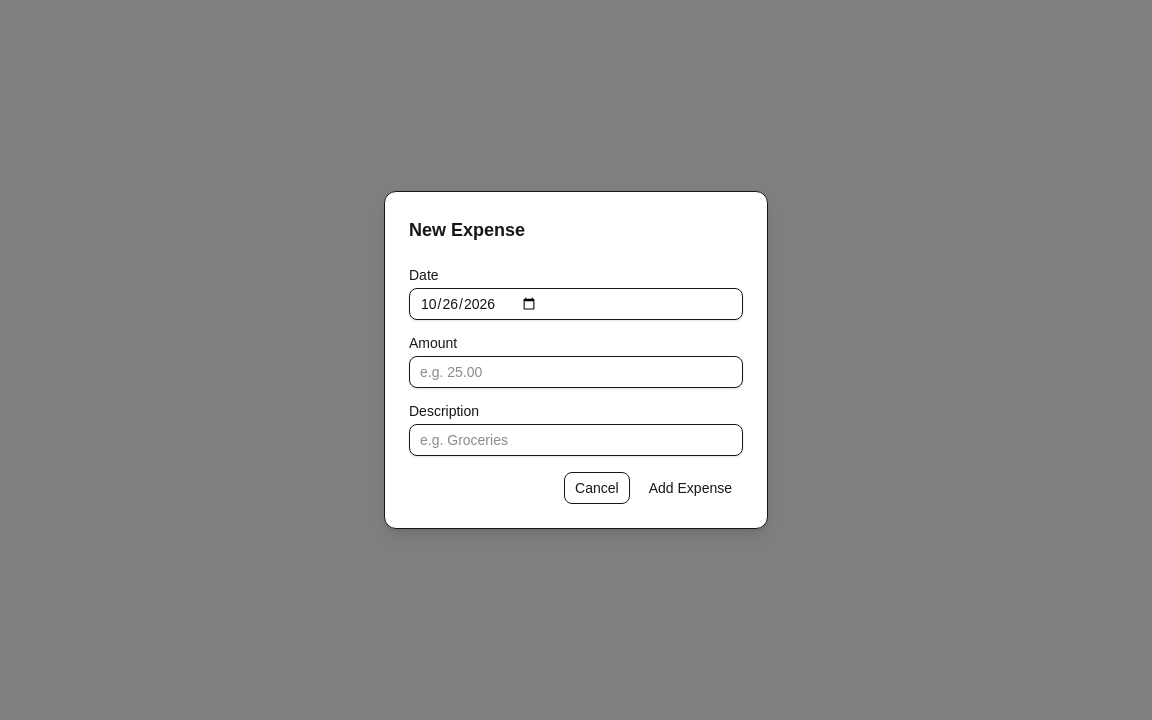
Test: AddExpenseDialog — Validation: amount must be a positive number; description must be non-empty › shows amount invalid error when submitting with zero amount
Type "0" into the number field labelled "Amount".
click(576, 372); type("0")  # box [409,356,743,388]
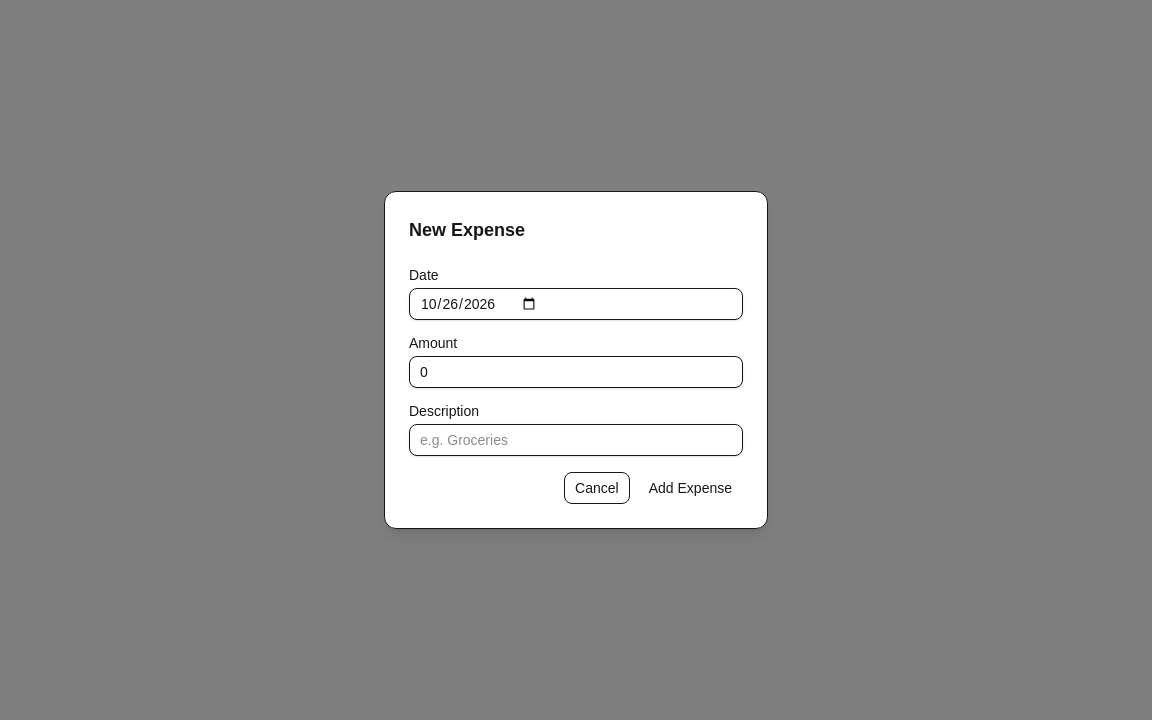
Type "Groceries" into the field labelled "Description".
click(576, 440); type("Groceries")  # box [409,424,743,456]
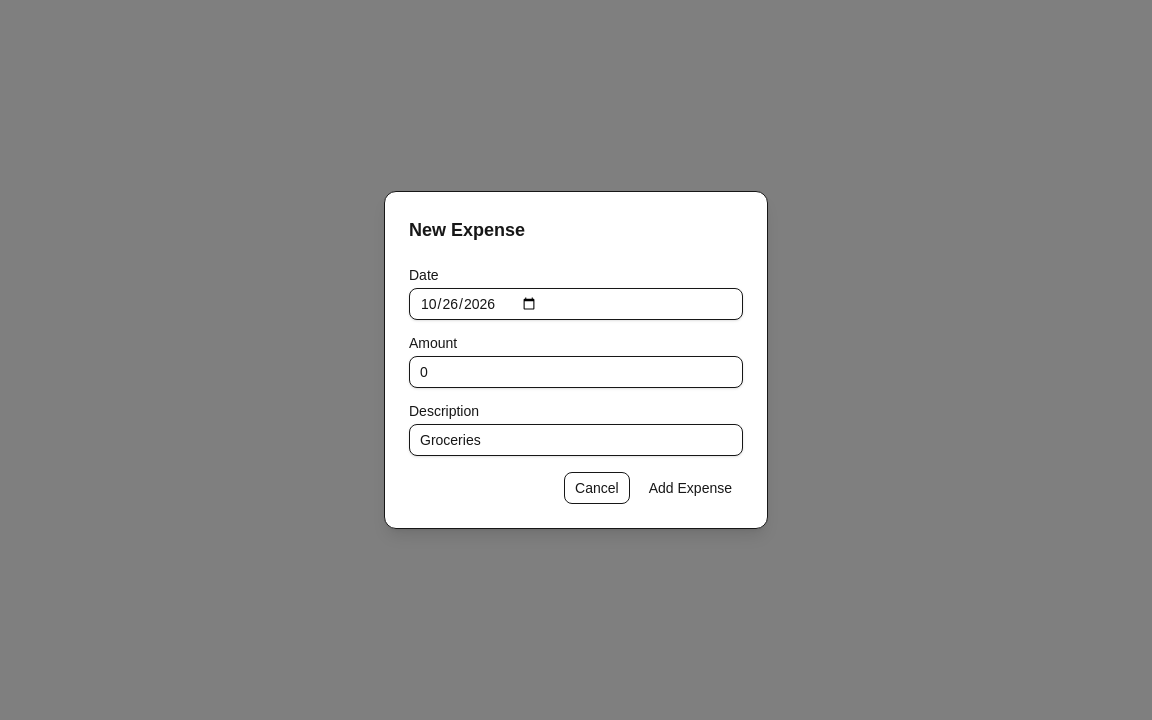
Click the button "Add Expense".
click(690, 488)  # box [638,472,743,504]
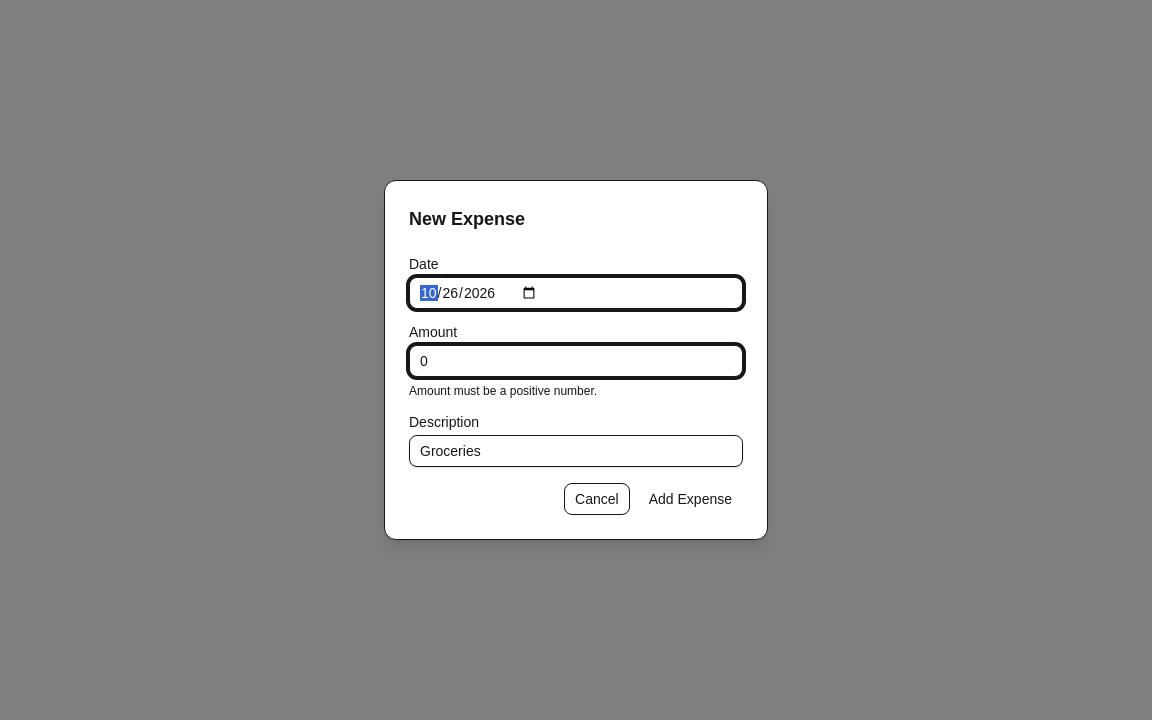
Expected: the text "Amount must be a positive number." is shown, [409,384,597,398]
